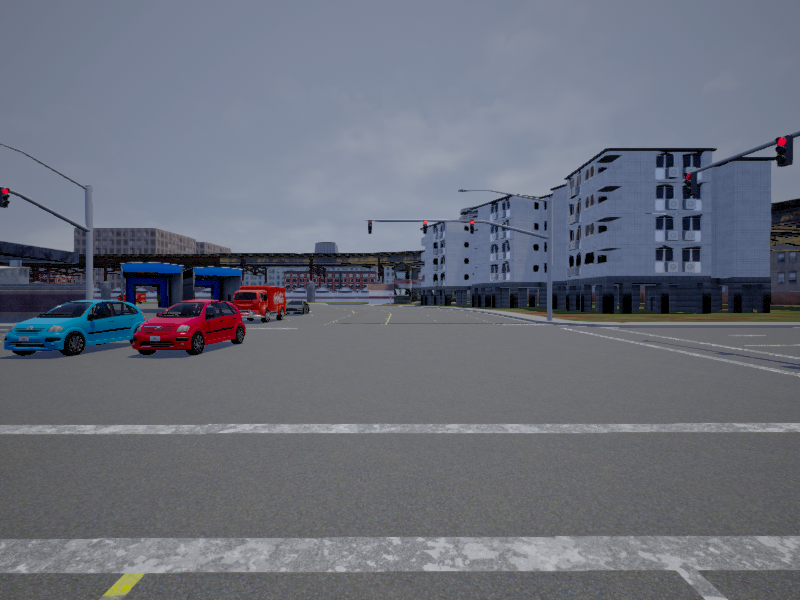Benign: (5, 301, 147, 354), (131, 299, 247, 354), (232, 287, 287, 322), (288, 301, 309, 314)
